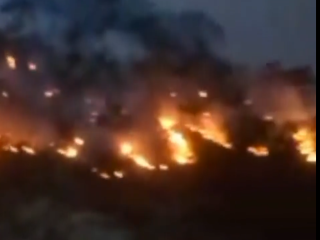fire: (150, 104, 234, 169), (54, 133, 148, 179), (275, 123, 318, 166)
smoke: (64, 18, 151, 81)
